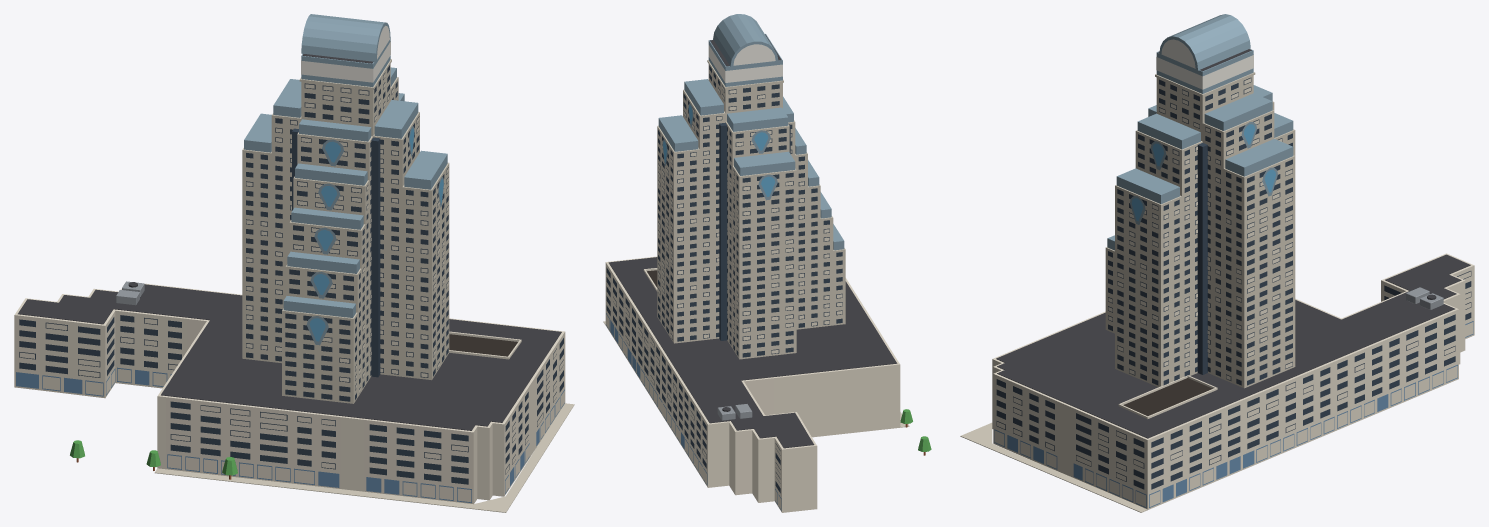
File: marriott-marquis.glb
The picture shows the model from 3 angles, left to right: view 1: azimuth 30°, elevation 25°; view 2: azimuth 150°, elevation 25°; view 3: azimuth 270°, elevation 25°; orthographic projection. The views are drawn at different scales.
Visible parts, largest first — view 1: marriott-marquis_body, marriott-marquis_night_glow; view 2: marriott-marquis_body, marriott-marquis_night_glow; view 3: marriott-marquis_body, marriott-marquis_night_glow.
Boxes of the visible parts, x1,y1,x2,y2 form: marriott-marquis_body: (14,14,574,512); marriott-marquis_night_glow: (20,25,564,502); marriott-marquis_body: (603,14,931,512); marriott-marquis_night_glow: (606,44,842,509); marriott-marquis_body: (960,14,1474,512); marriott-marquis_night_glow: (994,39,1473,506).
Size of the model in its own units: 149 by 133 by 157.
